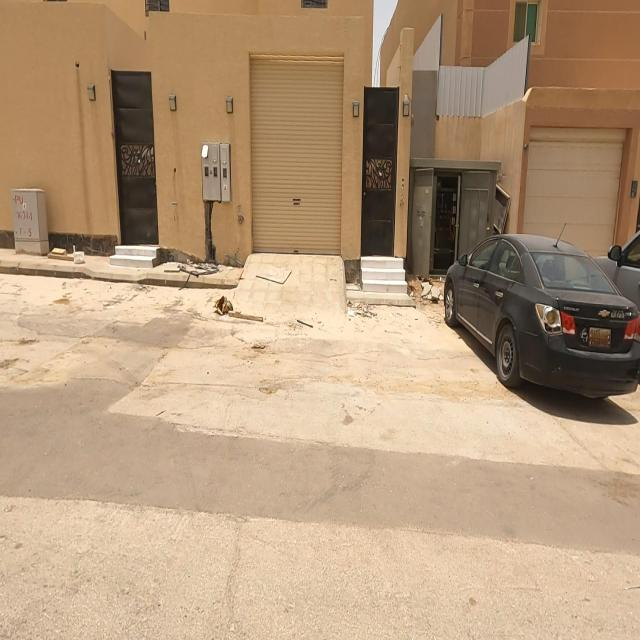Graffiti: (14, 195, 34, 240)
